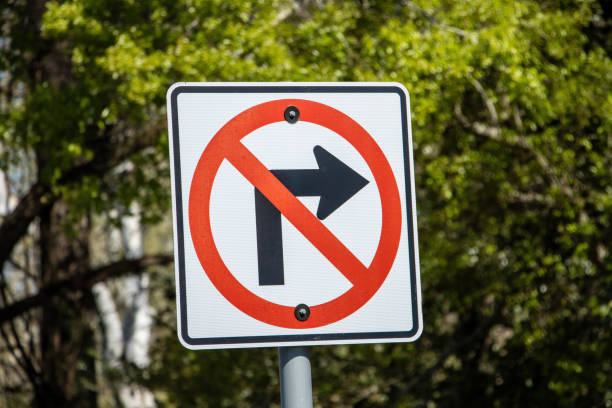saga_girilmez: (182, 99, 400, 339)
